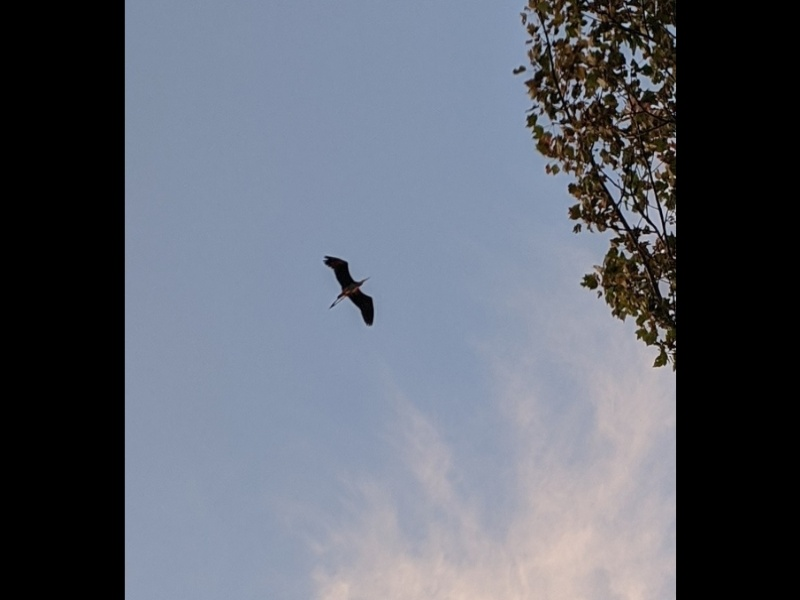heron: (319, 255, 376, 329)
